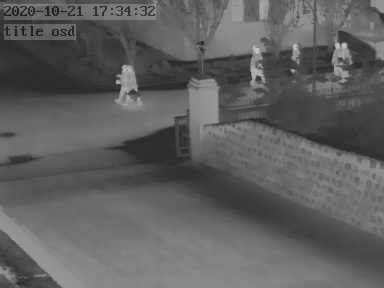person: (115, 63, 138, 102), (330, 39, 345, 79), (250, 46, 263, 87)
